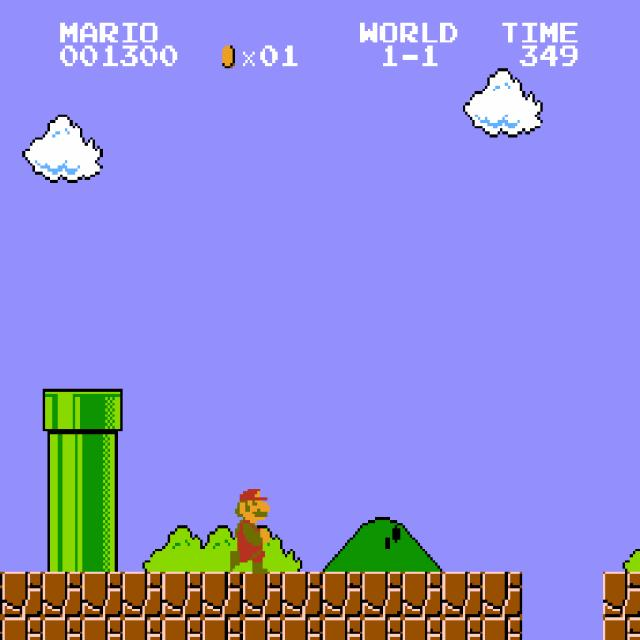big_mario: (228, 480, 270, 574)
pipe: (42, 434, 83, 480), (42, 480, 83, 526), (82, 434, 123, 480), (82, 480, 123, 526), (42, 526, 83, 571), (82, 526, 123, 571)
pipe_head: (42, 389, 83, 434), (82, 389, 123, 434)
undestructible_block: (2, 572, 43, 617), (42, 572, 83, 617), (82, 572, 123, 617), (122, 572, 163, 617), (162, 572, 203, 617), (202, 572, 243, 617), (242, 572, 283, 617), (282, 572, 323, 617), (322, 572, 363, 617), (362, 572, 403, 617), (402, 572, 443, 617), (442, 572, 483, 617), (482, 572, 523, 617), (603, 572, 640, 617), (2, 617, 43, 640), (42, 617, 83, 640), (82, 617, 123, 640), (122, 617, 163, 640), (162, 617, 203, 640), (202, 617, 243, 640), (242, 617, 283, 640), (282, 617, 323, 640), (322, 617, 363, 640), (362, 617, 403, 640), (402, 617, 443, 640), (442, 617, 483, 640), (482, 617, 523, 640), (603, 617, 640, 640), (0, 571, 2, 617), (0, 617, 2, 639)
